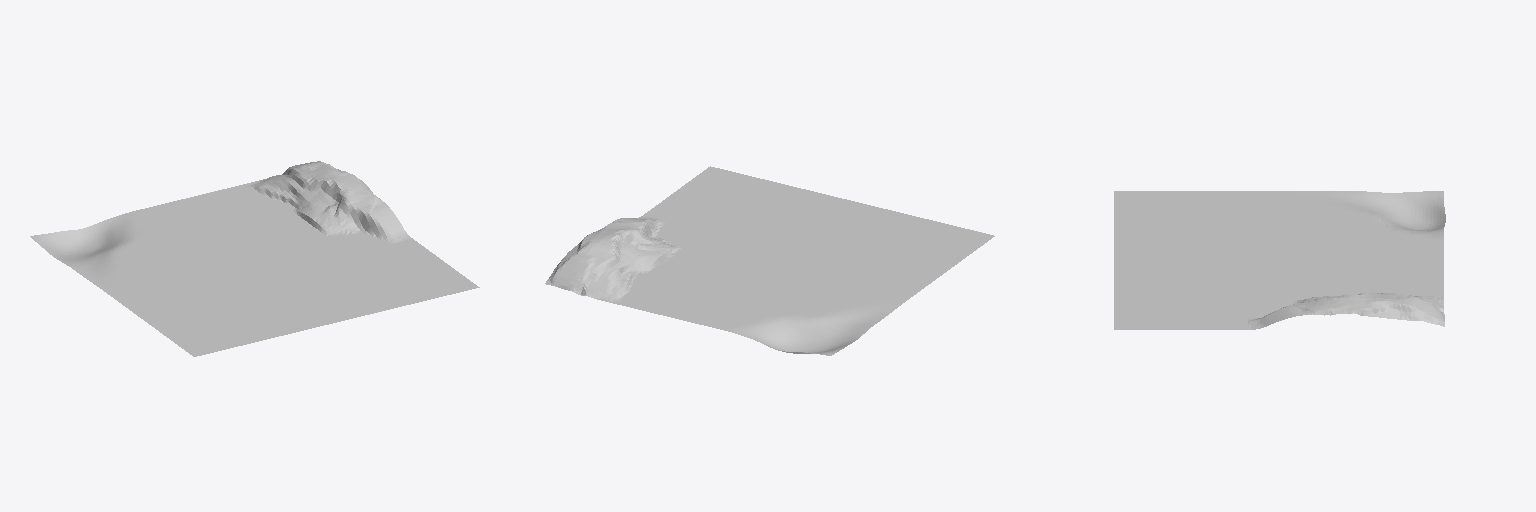
File: terrain.obj
3 renders of one model, left to right at view 1: azimuth 30°, elevation 25°; view 2: azimuth 150°, elevation 25°; view 3: azimuth 270°, elevation 25°, orthographic.
Visible parts, largest first — view 1: Plane; view 2: Plane; view 3: Plane.
Boxes of the visible parts, <box> form: Plane: <box>30,161,479,356</box>; Plane: <box>545,166,994,355</box>; Plane: <box>1114,191,1445,329</box>.
Size of the model in its own units: 35.11 by 4.25 by 34.77.